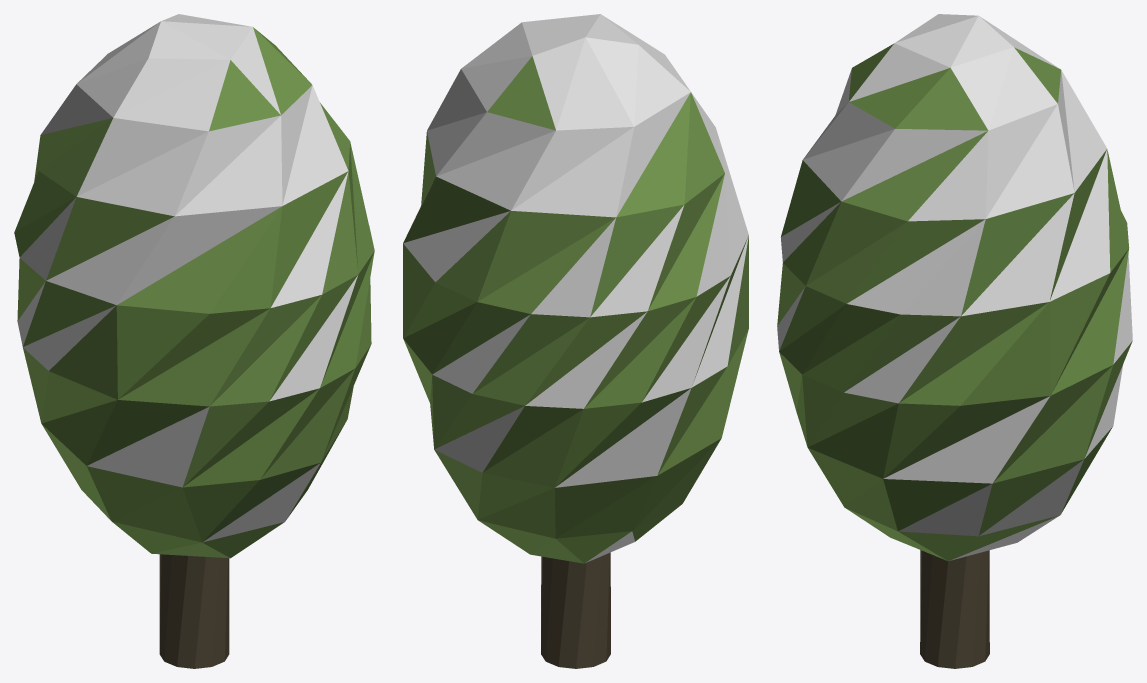
Rendered from twisted-snow-small1.dae.
3 renders of one model, left to right at view 1: azimuth 30°, elevation 25°; view 2: azimuth 150°, elevation 25°; view 3: azimuth 270°, elevation 25°, orthographic.
Parts seen in each view (by area): view 1: Kugel, Zylinder; view 2: Kugel, Zylinder; view 3: Kugel, Zylinder.
Part boxes in pixels (x1,y1,x2,y2): Kugel: (14,14,374,558); Zylinder: (159,554,229,668); Kugel: (403,14,748,563); Zylinder: (541,552,610,668); Kugel: (777,14,1132,561); Zylinder: (920,550,989,668).
Size of the model in its own units: 4.54 by 9.01 by 4.63.
